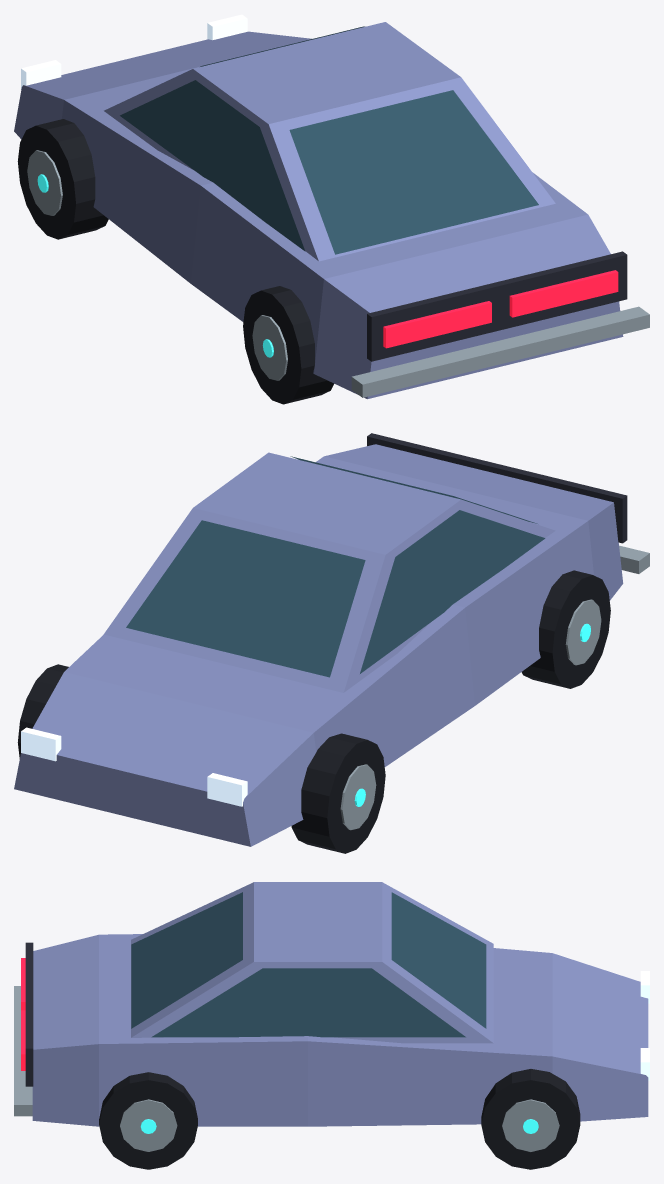
The model's file is charger.glb.
3 renders of one model, top to bottom at view 1: azimuth 30°, elevation 25°; view 2: azimuth 150°, elevation 25°; view 3: azimuth 270°, elevation 25°, orthographic. The views are drawn at different scales.
Parts seen in each view (by area): view 1: Long hood muscle body, Cabin shell, Rear window, Left window, Rear fascia, Chrome bumper, Tire, Tire.001, Wide tail lamp.001, Wide tail lamp, Wheel rim, Wheel rim.001 (+2 smaller); view 2: Long hood muscle body, Cabin shell, Windshield, Left window, Tire, Tire.001, Rear fascia, Wheel rim, Wheel rim.001, Tire.002, Front headlamp, Front headlamp.001 (+1 smaller); view 3: Long hood muscle body, Cabin shell, Right window, Rear window, Windshield, Tire.002, Tire.003, Wheel rim.003, Wheel rim.002, Chrome bumper, Rear fascia.
Part boxes in pixels (<box>): Long hood muscle body: <box>14,31,623,399</box>; Cabin shell: <box>104,22,555,261</box>; Rear window: <box>289,90,538,254</box>; Left window: <box>120,80,305,251</box>; Rear fascia: <box>367,251,627,361</box>; Chrome bumper: <box>351,306,649,397</box>; Tire: <box>17,119,108,239</box>; Tire.001: <box>243,286,333,404</box>; Wide tail lamp.001: <box>509,270,618,317</box>; Wide tail lamp: <box>383,301,491,348</box>; Wheel rim: <box>27,150,62,215</box>; Wheel rim.001: <box>252,315,287,380</box>; Long hood muscle body: <box>14,444,623,846</box>; Cabin shell: <box>103,452,555,692</box>; Windshield: <box>126,520,365,677</box>; Left window: <box>360,510,545,673</box>; Tire: <box>291,733,385,853</box>; Tire.001: <box>521,570,610,688</box>; Rear fascia: <box>367,433,627,543</box>; Wheel rim: <box>340,764,376,830</box>; Wheel rim.001: <box>565,599,601,665</box>; Tire.002: <box>17,664,68,758</box>; Front headlamp: <box>207,773,247,806</box>; Front headlamp.001: <box>21,727,61,761</box>; Long hood muscle body: <box>32,934,648,1126</box>; Cabin shell: <box>131,882,493,1043</box>; Right window: <box>151,968,465,1037</box>; Rear window: <box>131,892,242,1028</box>; Windshield: <box>391,892,486,1028</box>; Tire.002: <box>481,1069,580,1169</box>; Tire.003: <box>99,1072,197,1169</box>; Wheel rim.003: <box>120,1099,177,1151</box>; Wheel rim.002: <box>502,1099,559,1151</box>; Chrome bumper: <box>14,986,32,1116</box>; Rear fascia: <box>25,942,33,1086</box>.
Bounding box in the file's own units: 2.02 × 1.31 × 4.11.
